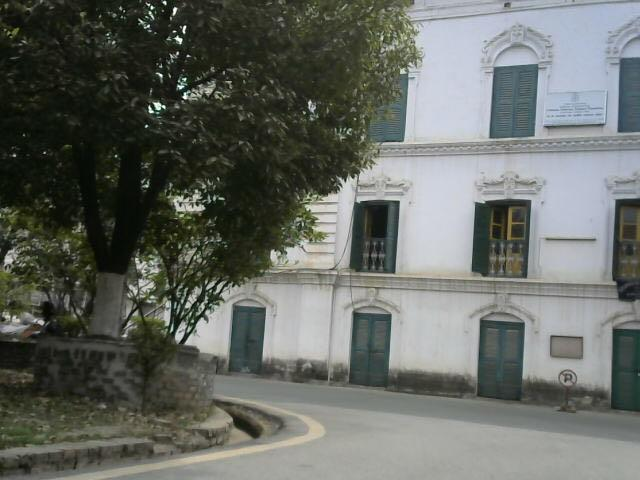Building: (414, 6, 640, 369)
Road: (42, 376, 635, 480)
Traffic sign: (558, 366, 578, 411)
Tree: (4, 0, 391, 351)
